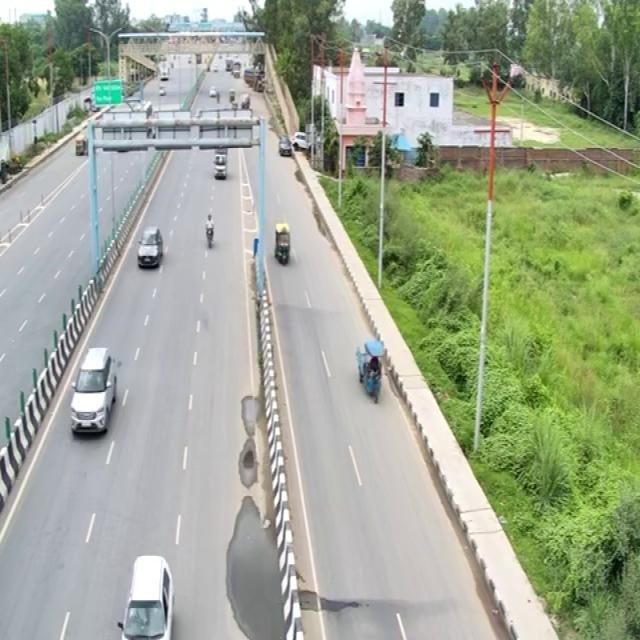car: (65, 341, 123, 439), (118, 551, 176, 637), (133, 221, 168, 271), (209, 150, 232, 182)
